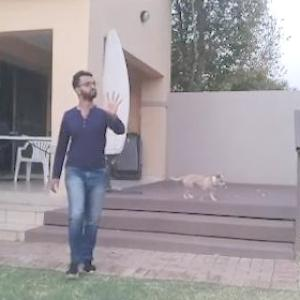follow_hand: (100, 82, 128, 119)
